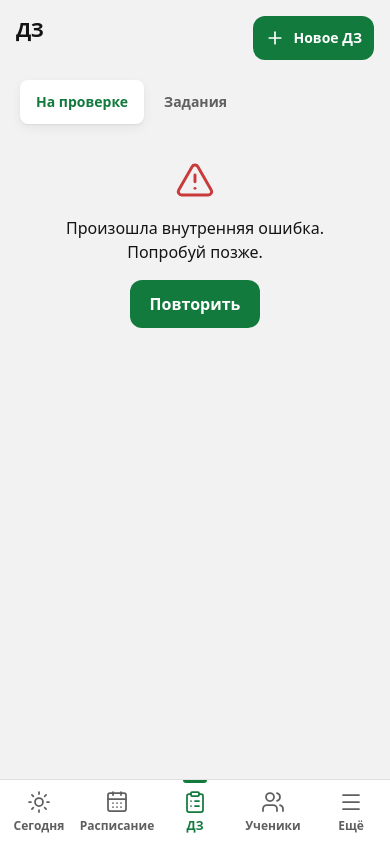
Очередь проверки › ошибка сервера: текст по коду и «Повторить» возвращает данные
The image size is (390, 844).
expect the message shows "Произошла внутренняя ошибка. Попробуй позже.": met, box [66,217,324,263]
Click the button "Повторить": (195, 304) [130,280,260,328]
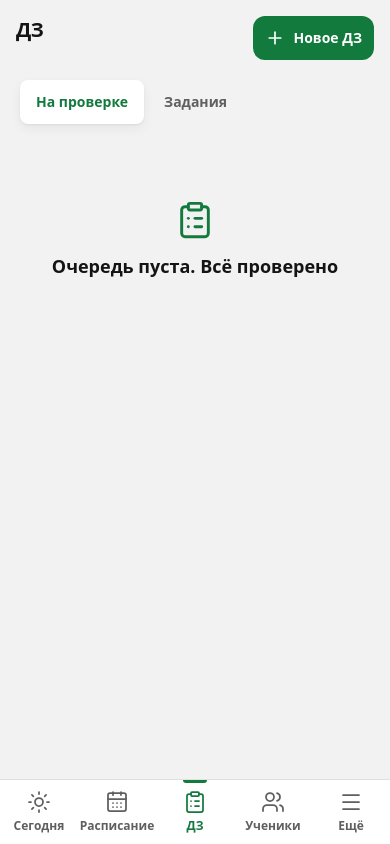
expect the heading "Очередь пуста. Всё проверено" is shown: met, box [52,252,338,280]
